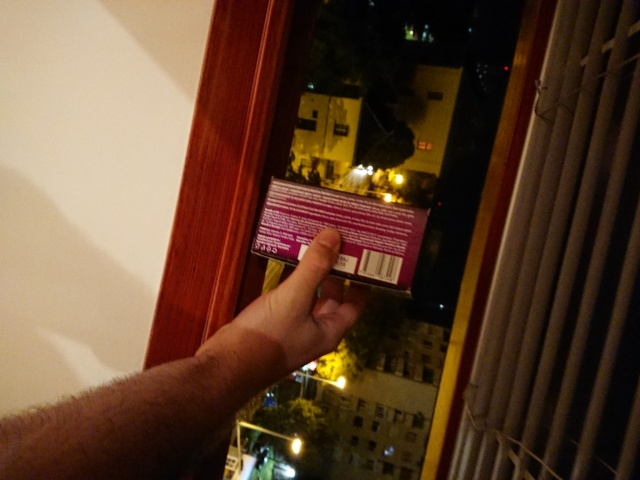Franck Black Currant Tea 60g: (247, 172, 433, 301)
